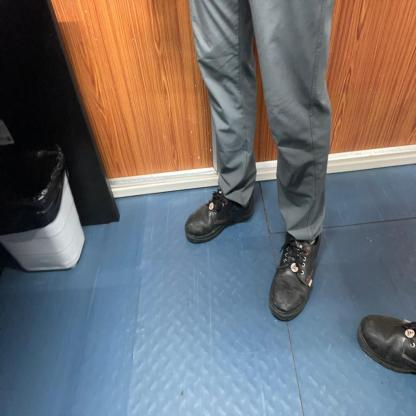bota: (268, 230, 323, 323), (183, 187, 255, 245), (355, 313, 416, 374)
